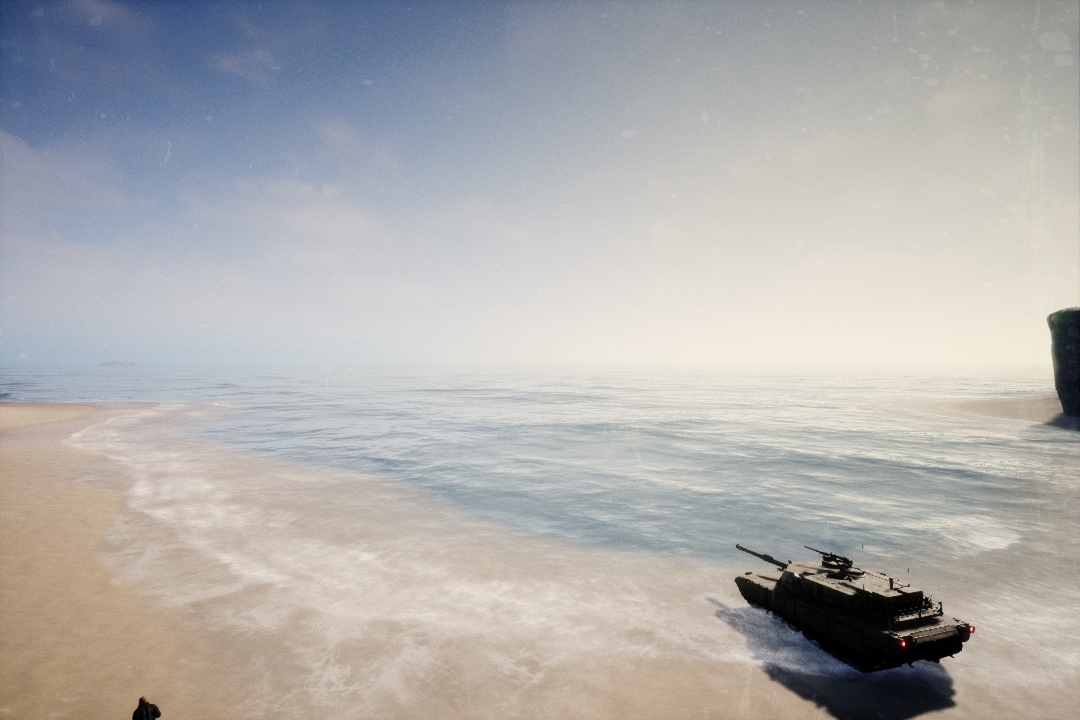tank: (725, 531, 979, 680)
